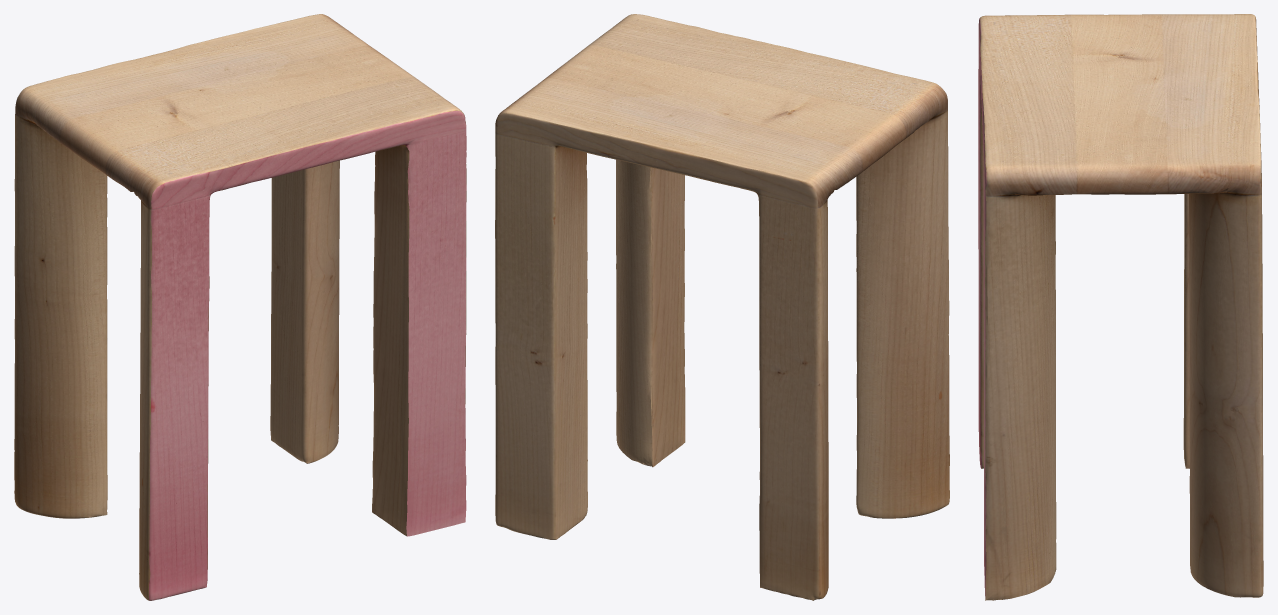
The model's file is KuengCaputo_SiloFurniture_2017.glb.
3 renders of one model, left to right at view 1: azimuth 30°, elevation 25°; view 2: azimuth 150°, elevation 25°; view 3: azimuth 270°, elevation 25°, orthographic. The views are drawn at different scales.
Parts seen in each view (by area): view 1: Retopo_KC_Hocker_v1; view 2: Retopo_KC_Hocker_v1; view 3: Retopo_KC_Hocker_v1.
Boxes of the visible parts, bbox=[...] form: Retopo_KC_Hocker_v1: bbox=[14, 14, 466, 600]; Retopo_KC_Hocker_v1: bbox=[495, 14, 949, 600]; Retopo_KC_Hocker_v1: bbox=[978, 14, 1263, 600].
Size of the model in its own units: 0.3664 by 0.4498 by 0.2696.
1 material, 1 textured.
